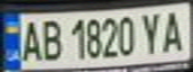0: (118, 12, 139, 57)
1: (63, 15, 87, 60)
2: (100, 14, 121, 58)
8: (84, 15, 103, 60)
A: (157, 7, 190, 54), (15, 17, 45, 63)
B: (36, 16, 66, 62)
Y: (136, 9, 166, 56)
